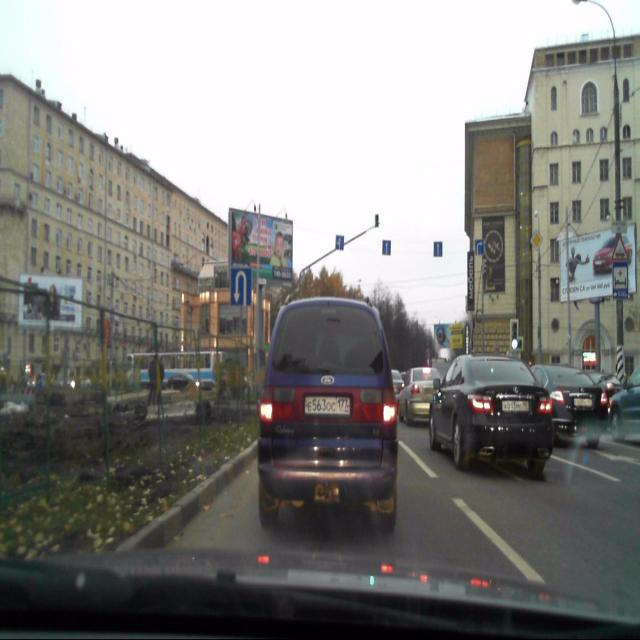road sign: (231, 268, 251, 305), (612, 262, 628, 298), (611, 234, 628, 262), (530, 228, 543, 252), (433, 241, 443, 257), (474, 240, 484, 256), (335, 235, 344, 250), (382, 240, 390, 255)
